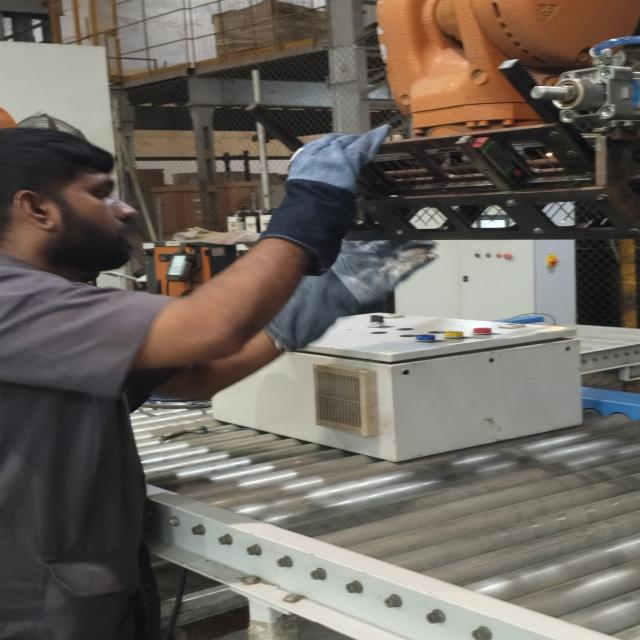Gloves-Detection: (289, 242, 420, 340), (266, 114, 342, 264)
